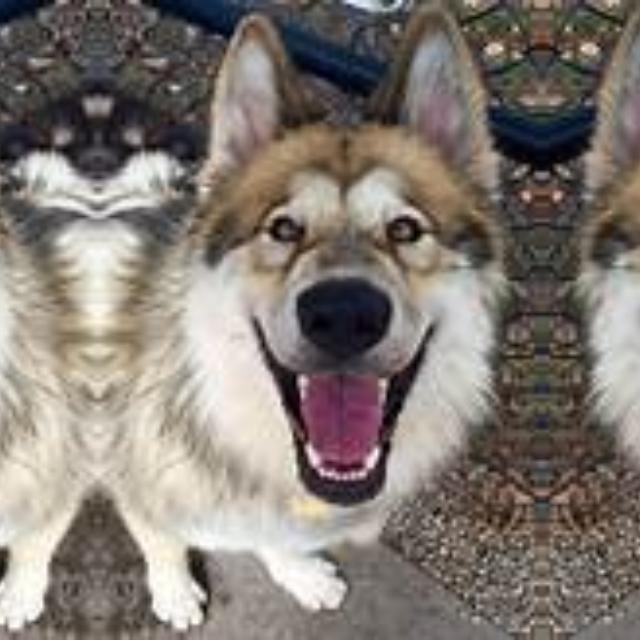dog: (105, 16, 513, 610), (0, 15, 89, 610), (571, 15, 640, 610)
